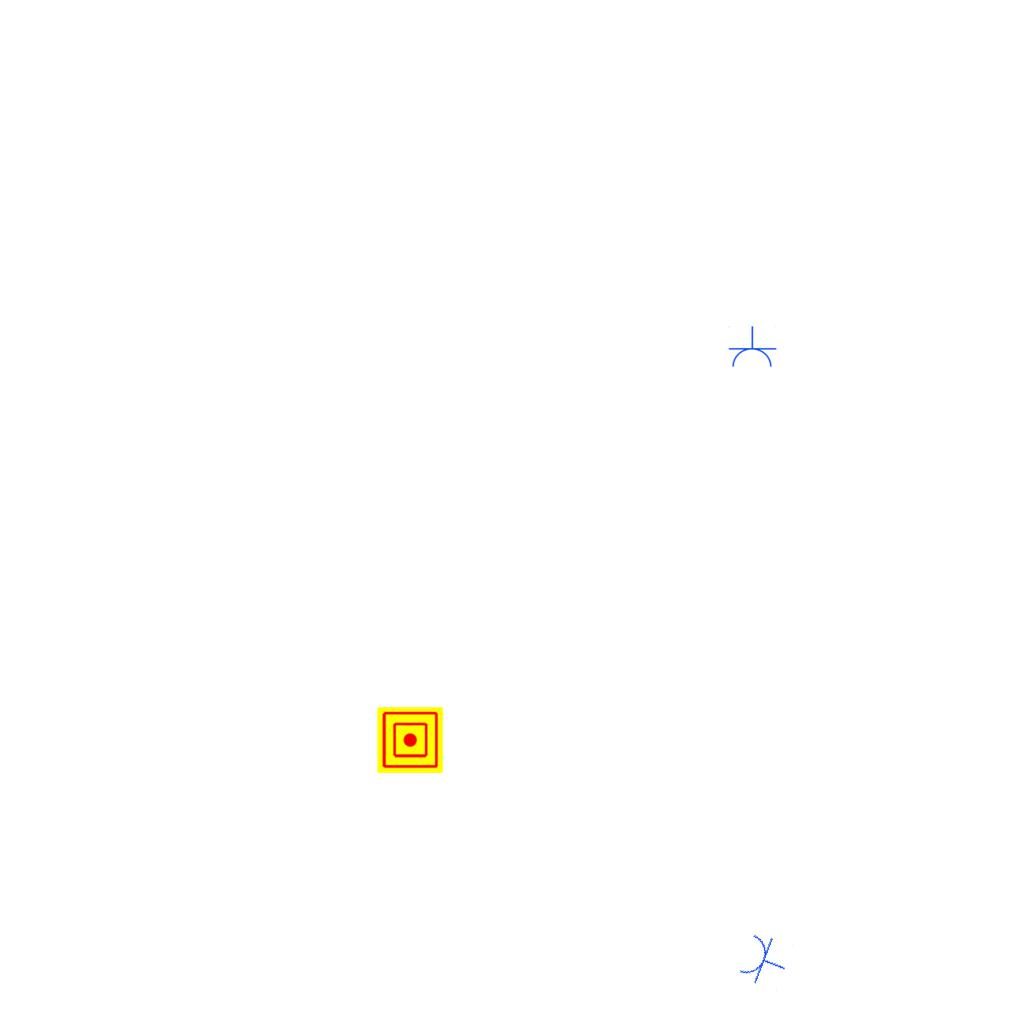NAM-Nichtautomatischer_Melder: (377, 707, 443, 773)
Schukosteckdose_einfach: (735, 929, 795, 992), (727, 326, 777, 369)
